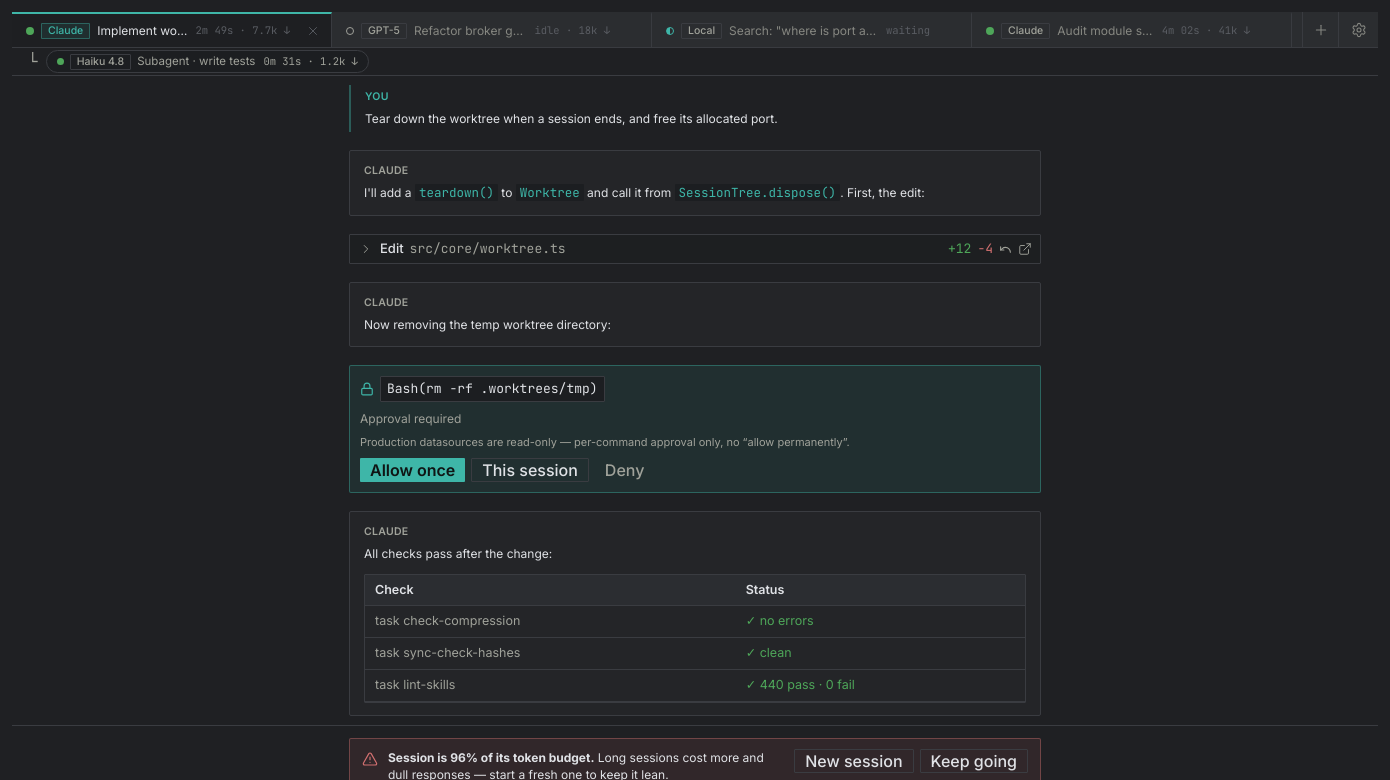
Test case: AgentWorkspace › the Rot-banner [New session] performs a compressed handoff, never mutating the parent (Phase 1)
Click the button with test id "context-banner-new" at (854, 761), box [794, 749, 914, 773]
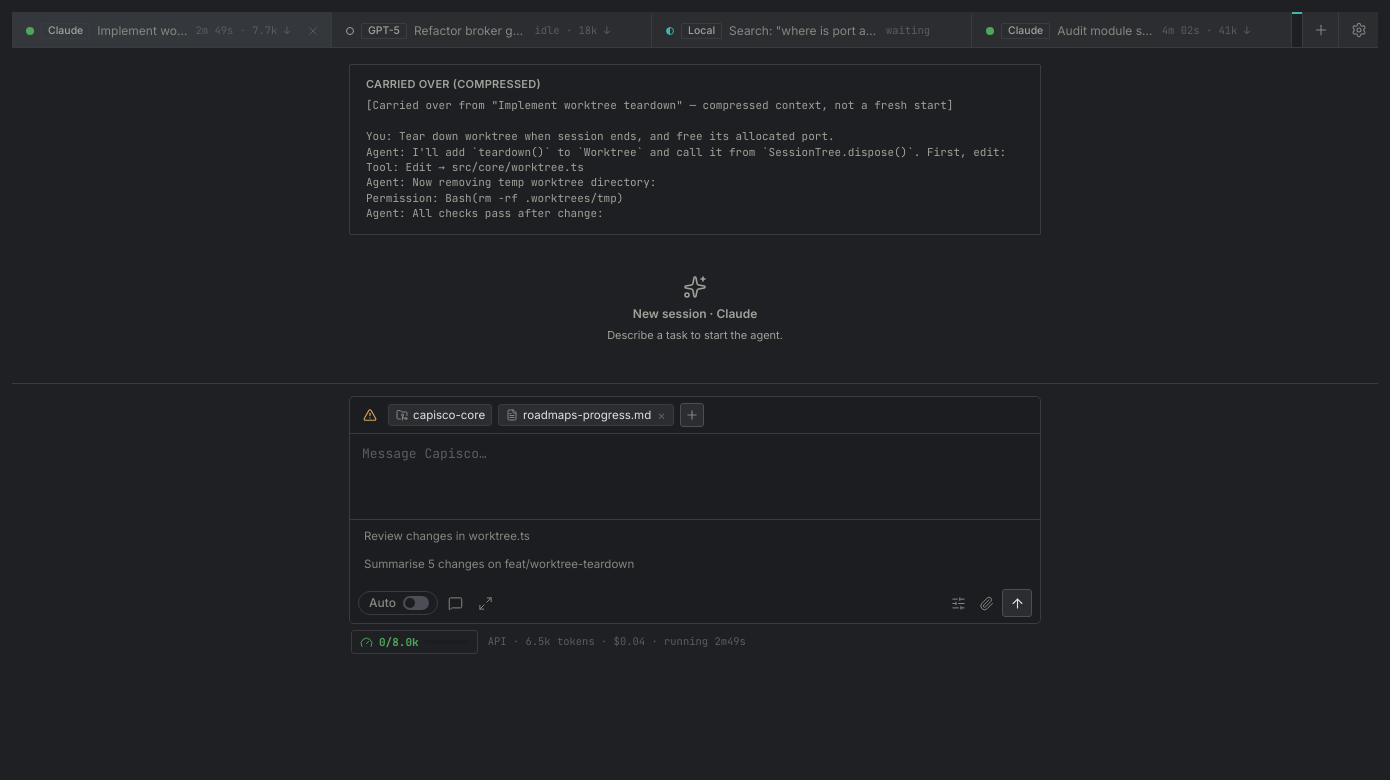
Now the element with test id "handoff-seed" is shown, box [349, 64, 1041, 234]
